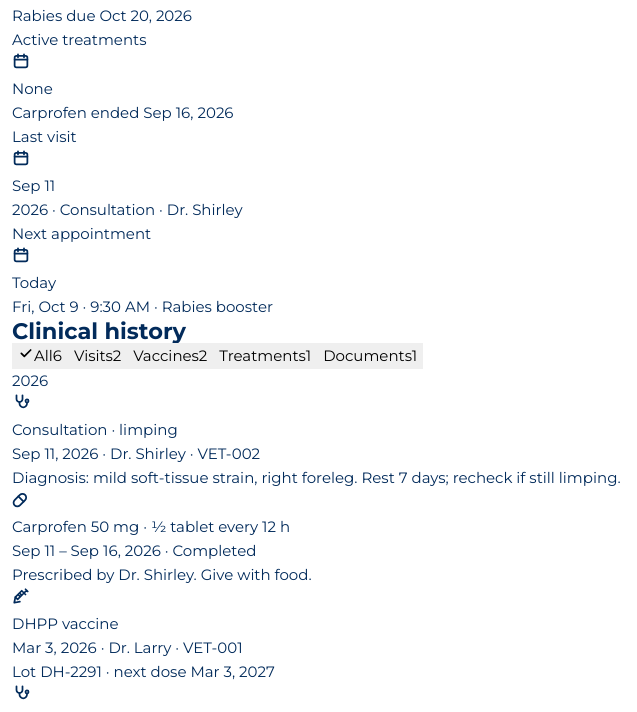
Test: HealthRecords › filters the history by kind of event
(page scrolled)
Click the button "Vaccines2" at (170, 356), box x1=127 y1=343 x2=213 y2=369
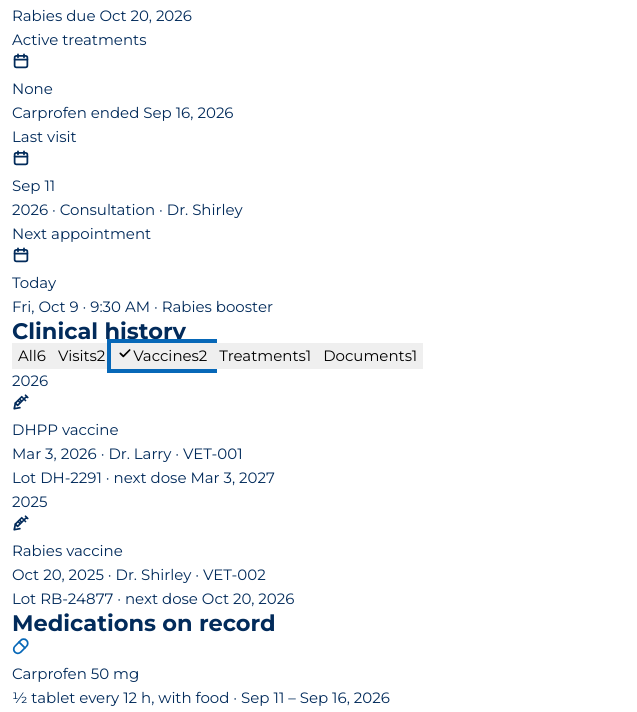
Expected: the text "DHPP vaccine" is shown, x1=12 y1=420 x2=118 y2=439
Now the text "Consultation · limping" is gone
